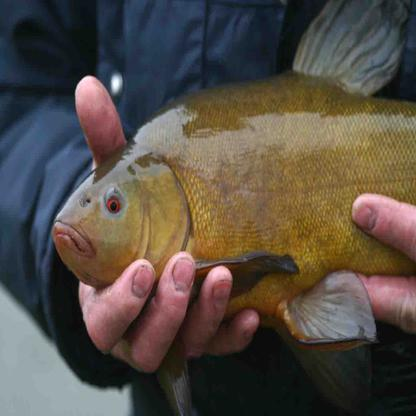fish: (49, 68, 416, 354)
